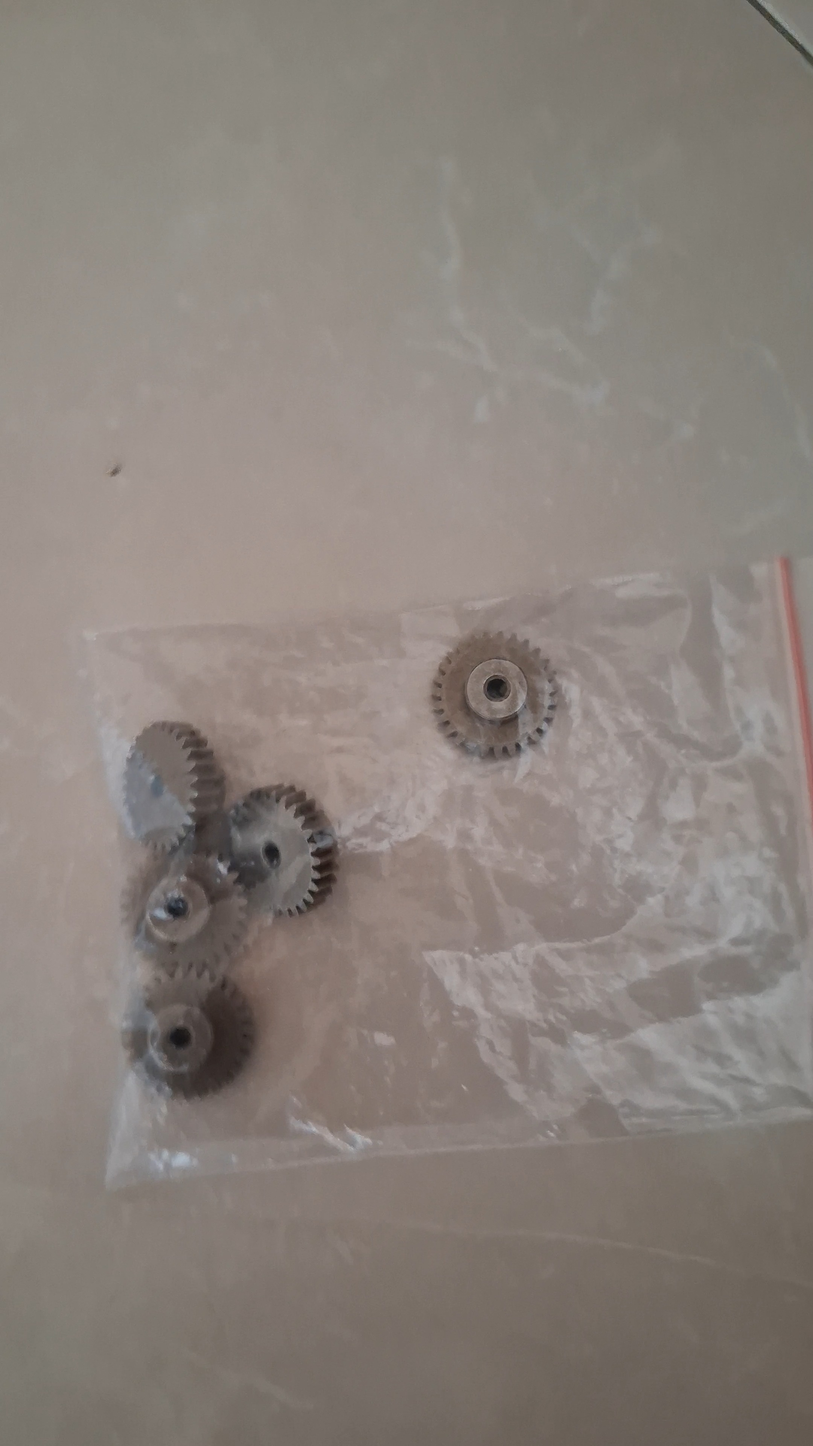spur gear: (122, 970, 254, 1097), (432, 633, 557, 757), (123, 854, 247, 972), (229, 785, 334, 915), (123, 721, 224, 851)
